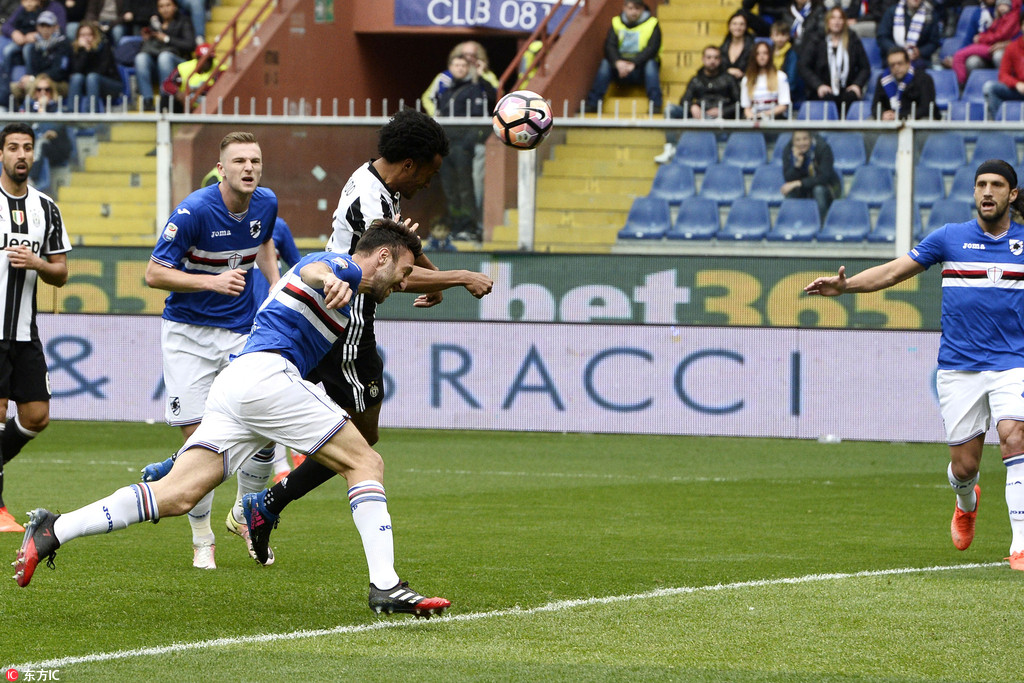ball: (493, 90, 552, 151)
